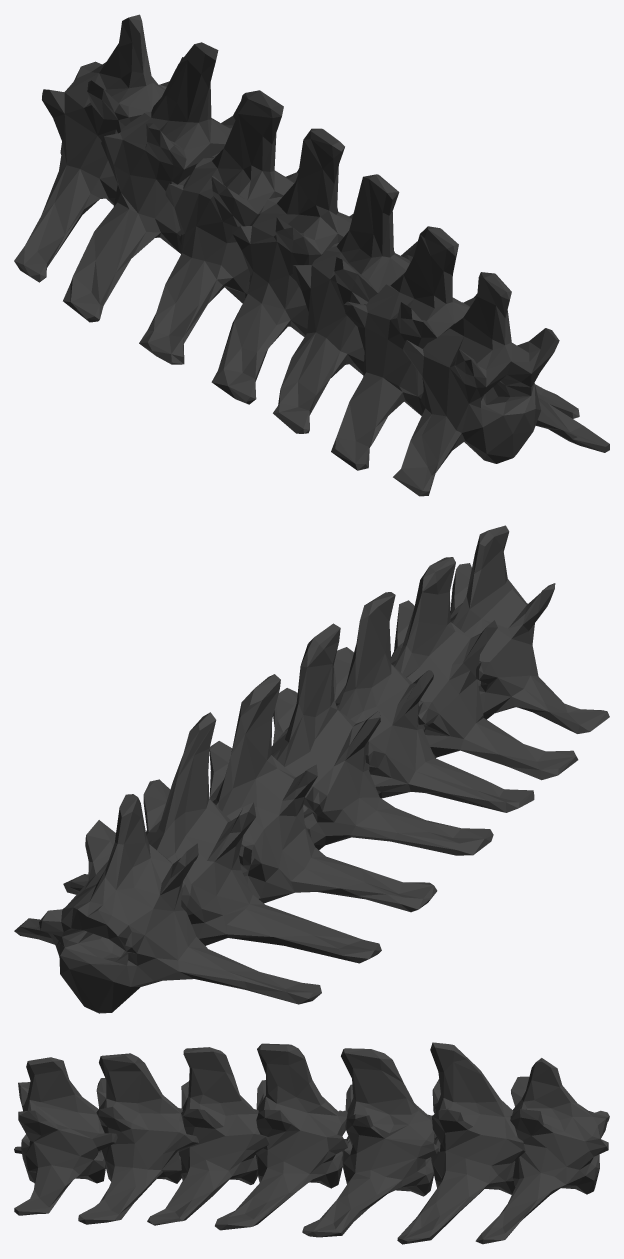
Rendered from Spine_lumbar.glb.
3 views of the same model, one above another, from view 1: azimuth 30°, elevation 25°; view 2: azimuth 150°, elevation 25°; view 3: azimuth 270°, elevation 25° (orthographic). The views are drawn at different scales.
Parts seen in each view (by area): view 1: Spine_lumbar; view 2: Spine_lumbar; view 3: Spine_lumbar.
Boxes of the visible parts, bbox=[...] form: Spine_lumbar: bbox=[14, 14, 609, 496]; Spine_lumbar: bbox=[14, 525, 609, 1013]; Spine_lumbar: bbox=[14, 1042, 609, 1244].
Size of the model in its own units: 0.00208 by 0.00147 by 0.0051.
Materials: 1 (1 with a texture image).
